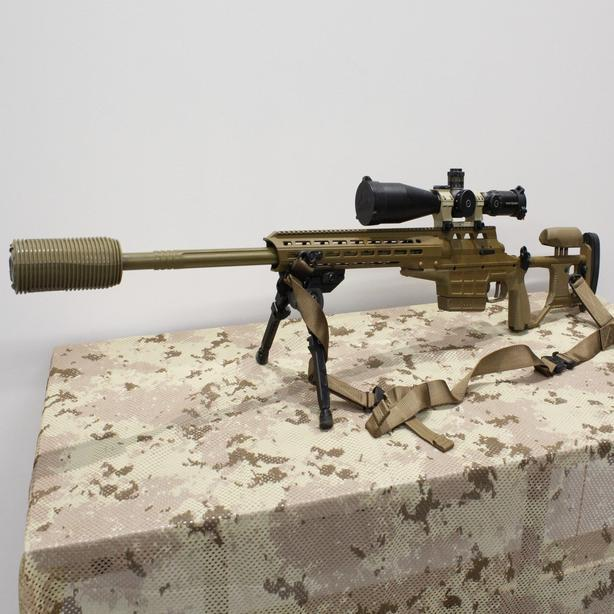Firearm: (0, 160, 614, 447)
